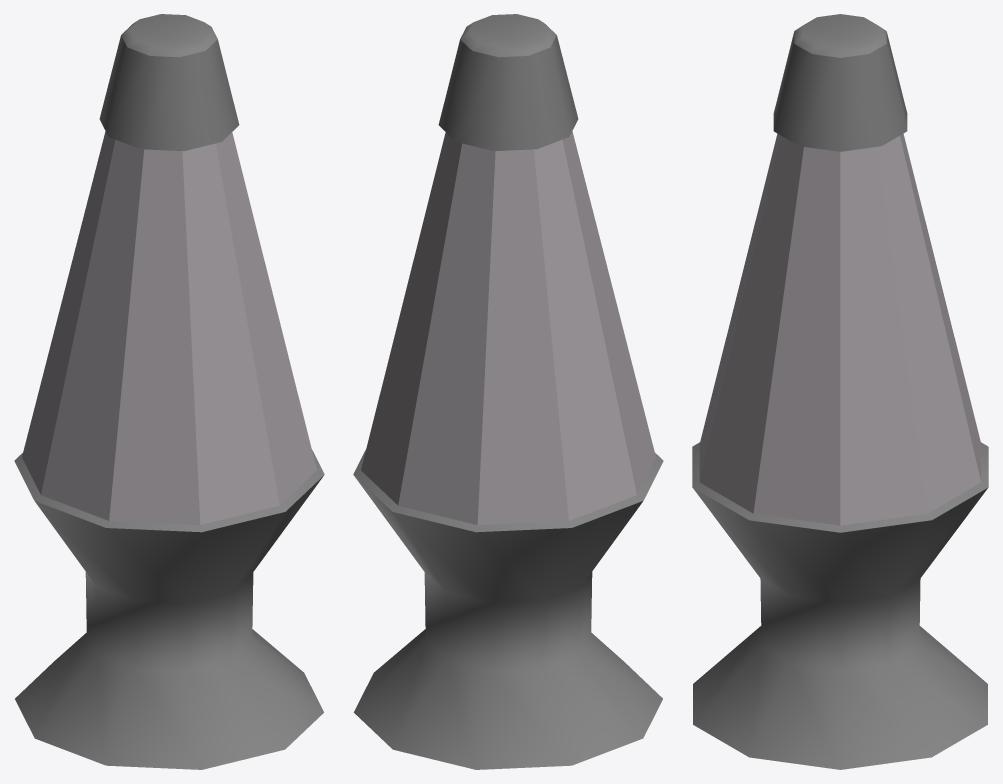
Rendered from LavaLamp.fbx.
3 renders of one model, left to right at view 1: azimuth 30°, elevation 25°; view 2: azimuth 150°, elevation 25°; view 3: azimuth 270°, elevation 25°, orthographic.
Visible parts, largest first — view 1: Glass, Lamp; view 2: Glass, Lamp; view 3: Glass, Lamp.
Part boxes in pixels (x1,y1,x2,y2): Glass: (22, 131, 316, 524); Lamp: (14, 14, 324, 769); Glass: (361, 131, 655, 524); Lamp: (353, 14, 663, 769); Glass: (699, 133, 981, 525); Lamp: (692, 14, 988, 769).
Size of the model in its own units: 67.92 by 162 by 64.6.
